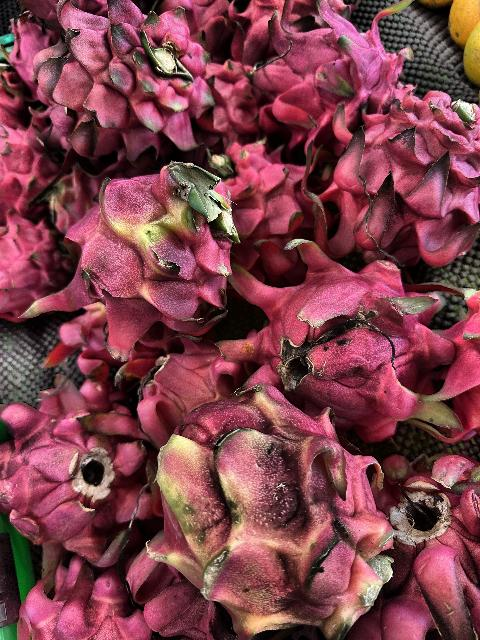buah-naga-belum-matang: (145, 383, 391, 633), (55, 156, 225, 358)
buah-naga-matang: (221, 231, 456, 431), (27, 0, 235, 170), (0, 376, 170, 554), (330, 88, 480, 274), (368, 444, 480, 640), (242, 4, 412, 128), (199, 132, 317, 266), (0, 542, 156, 640), (0, 208, 72, 308), (230, 0, 357, 34), (1, 128, 52, 204), (164, 1, 228, 54), (42, 164, 100, 218)
